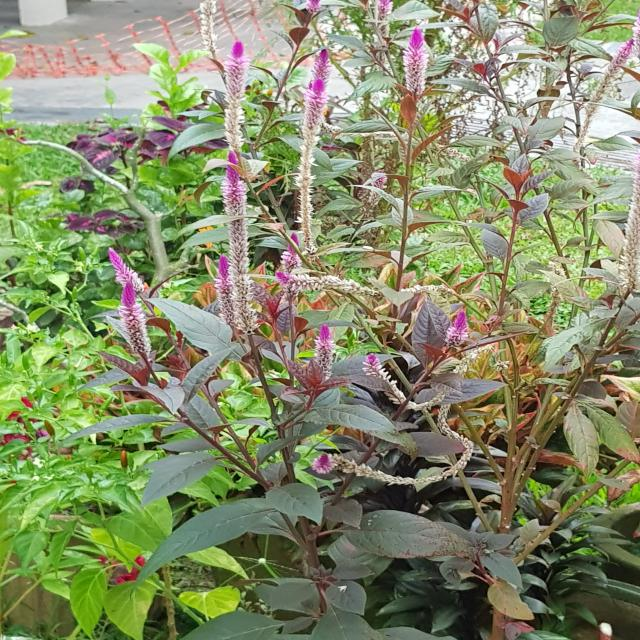Celosia-Argentea: (272, 37, 354, 250), (199, 146, 279, 364), (198, 38, 264, 179), (102, 251, 170, 382), (380, 22, 460, 126), (312, 454, 481, 488), (205, 246, 254, 352), (424, 287, 487, 363), (368, 346, 430, 419), (303, 319, 352, 384)
